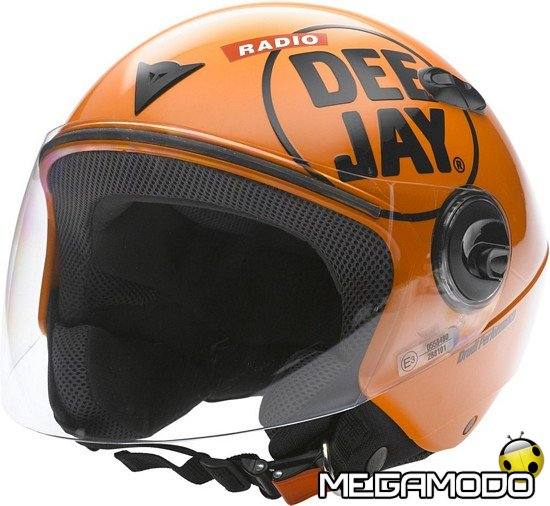helmet: (41, 33, 521, 439)
